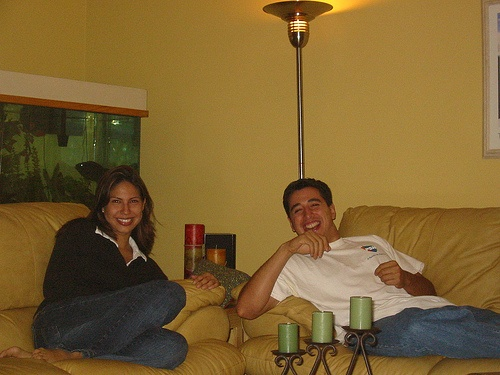head: (91, 162, 150, 237), (283, 179, 338, 242)
person: (234, 178, 497, 373), (13, 160, 225, 370)
